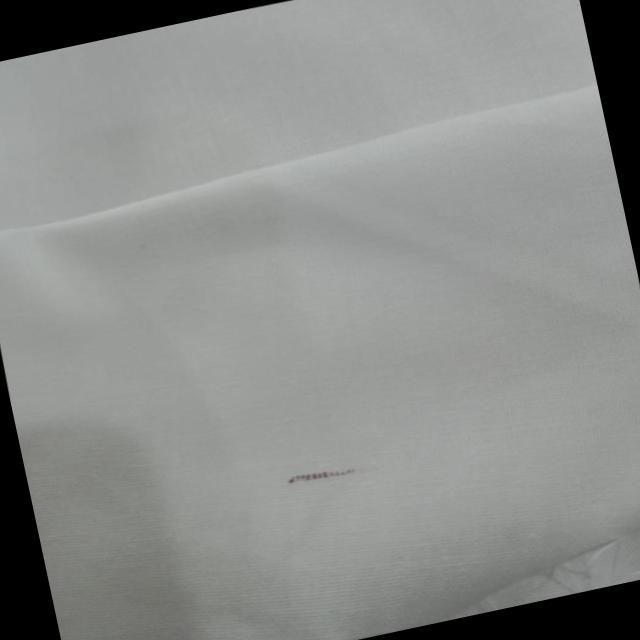contamination: (272, 457, 367, 492)
